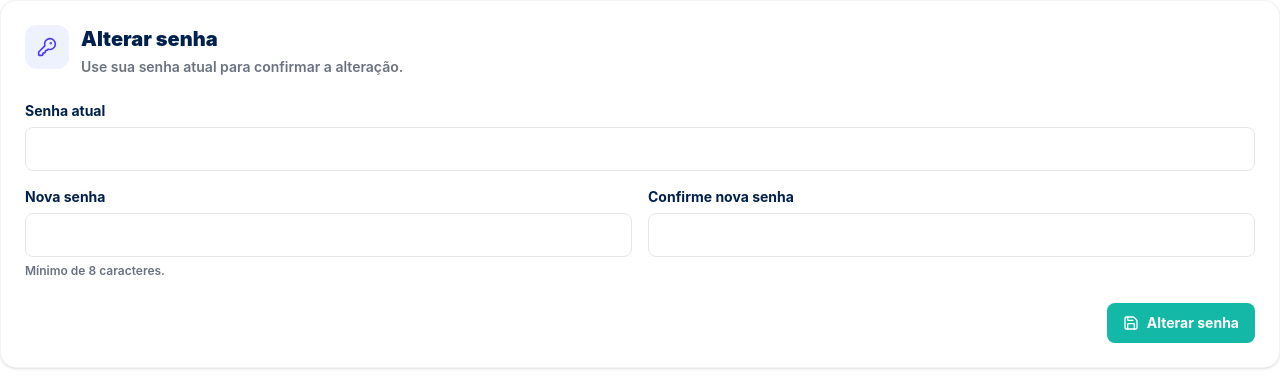
Test case: AlterarSenhaForm › valida nova senha igual a senha atual
The image size is (1280, 386).
Type "mesma123" into the password field labelled "Senha atual" at {"x": 640, "y": 149}, box [25,127,1255,171]
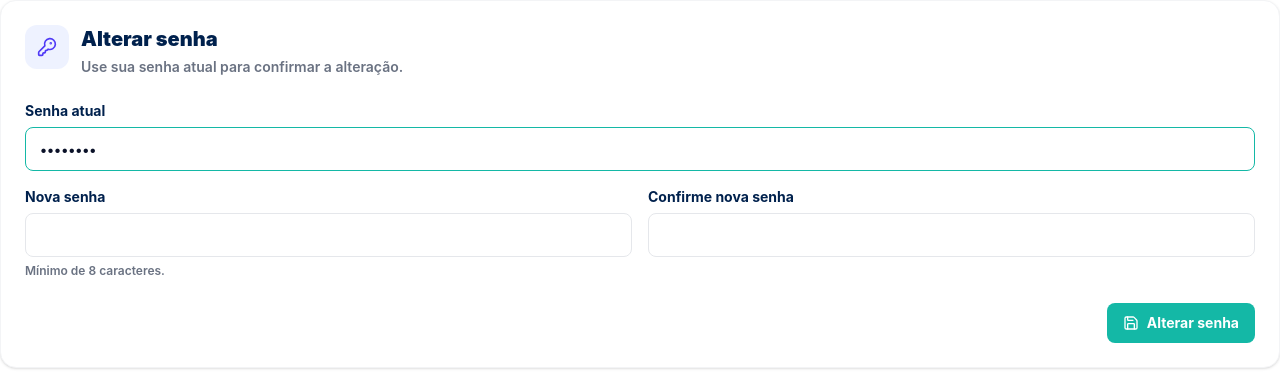
Type "mesma123" into the password field labelled "Nova senha" at {"x": 328, "y": 235}, box [25,213,632,257]
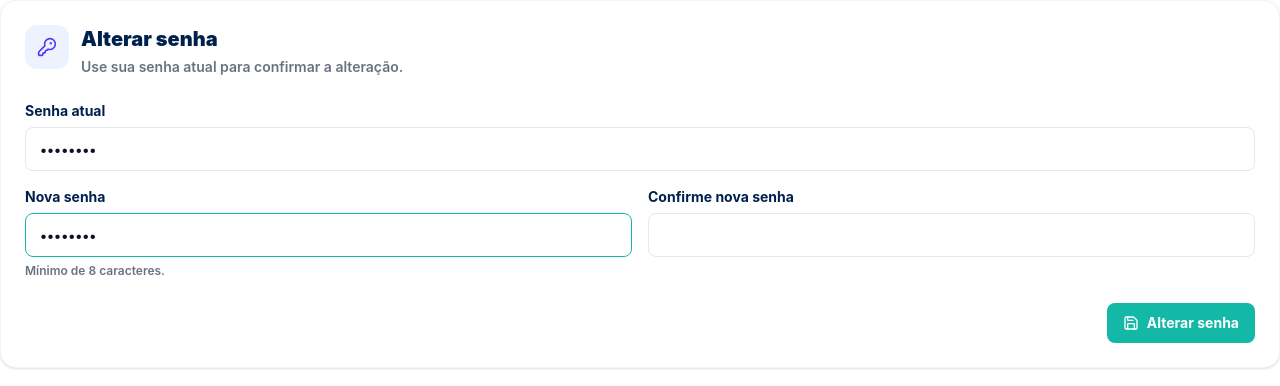
Type "mesma123" into the password field labelled "Confirme nova senha" at {"x": 952, "y": 235}, box [648,213,1255,257]
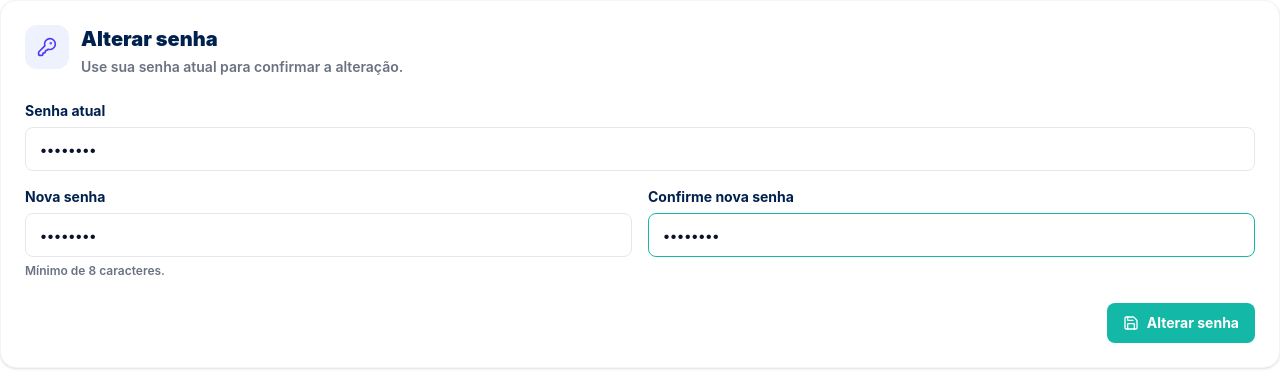
Click the button "Alterar senha" at {"x": 1181, "y": 323}, box [1107,303,1255,343]
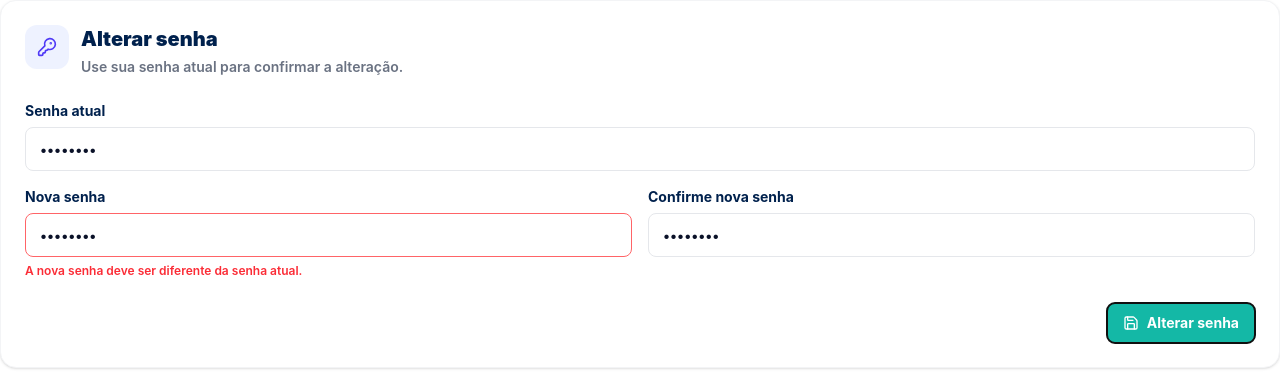
Now the text "A nova senha deve ser diferente da senha atual." is shown, box [25,263,302,278]
